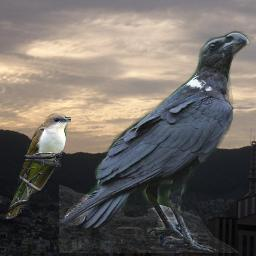Crow: (59, 29, 254, 253)
Cuckoo: (5, 112, 71, 219)
